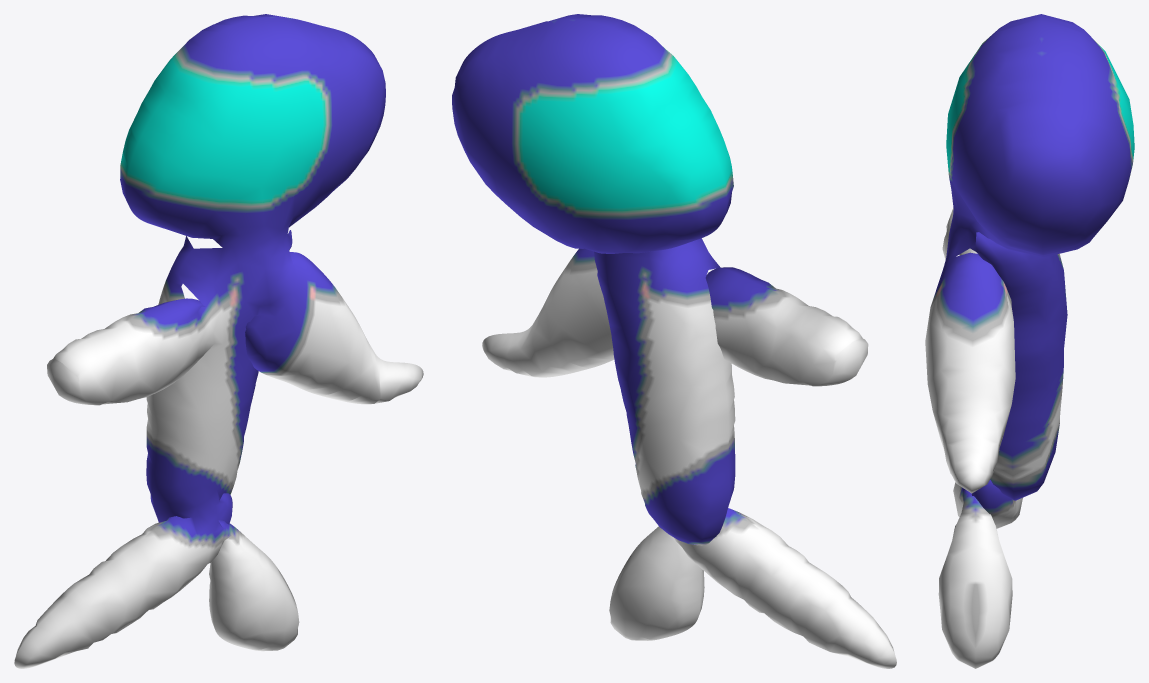
Rendered from asset.glb.
3 renders of one model, left to right at view 1: azimuth 30°, elevation 25°; view 2: azimuth 150°, elevation 25°; view 3: azimuth 270°, elevation 25°, orthographic. The views are drawn at different scales.
Bounding box in the file's own units: 1.35 × 1.95 × 0.574.
1 material, 1 textured.
